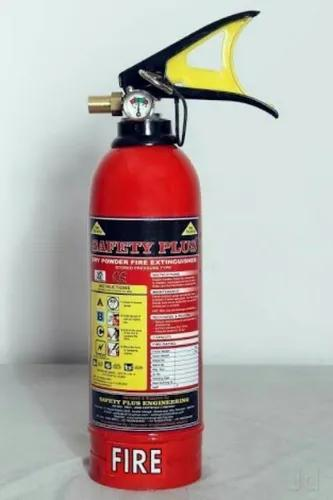floor-kept: (47, 16, 306, 495)
